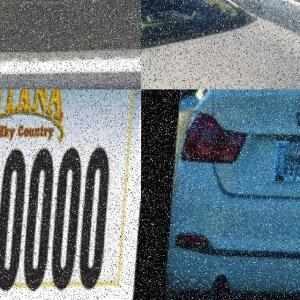Plate: (0, 128, 125, 300), (270, 136, 300, 194)
